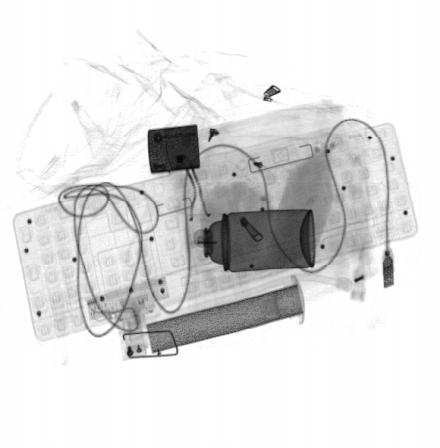Lighter: (147, 124, 200, 173)
Sprayer: (184, 209, 316, 274)
